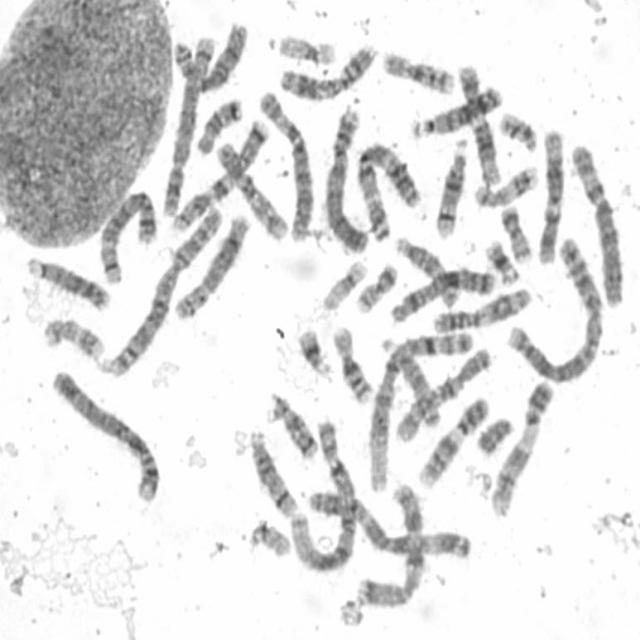A1: (364, 328, 494, 495), (285, 413, 360, 576)
A2: (98, 198, 226, 379), (502, 232, 606, 386)
A3: (302, 483, 474, 562), (351, 133, 424, 244)
B4: (45, 361, 163, 506), (320, 98, 371, 255)
B5: (156, 27, 218, 219), (94, 182, 160, 286)
C10: (391, 339, 494, 444), (210, 130, 292, 242)
C11: (274, 36, 379, 102), (427, 279, 534, 333)
C12: (452, 56, 504, 187), (532, 121, 566, 266)
C6: (566, 136, 628, 308), (253, 82, 316, 242)
C7: (164, 111, 273, 232), (350, 476, 427, 610)
C8: (168, 206, 252, 321), (166, 13, 250, 95)
C9: (486, 373, 557, 519), (413, 390, 491, 489)
D13: (20, 249, 112, 313), (407, 78, 504, 138)
D14: (244, 423, 300, 519), (430, 130, 470, 240)
D15: (375, 331, 443, 431), (391, 228, 464, 308)
E16: (376, 42, 457, 96), (327, 317, 375, 406)
E17: (468, 158, 542, 209), (37, 310, 108, 361)
E18: (262, 386, 320, 461), (190, 90, 244, 157)
F19: (317, 252, 369, 312), (268, 26, 338, 68)
F20: (351, 256, 399, 314), (495, 198, 535, 264)
G21: (292, 319, 334, 379), (480, 232, 522, 286)
G22: (494, 104, 539, 153), (244, 514, 292, 558)
X: (385, 261, 498, 324)
Y: (471, 408, 516, 456)
